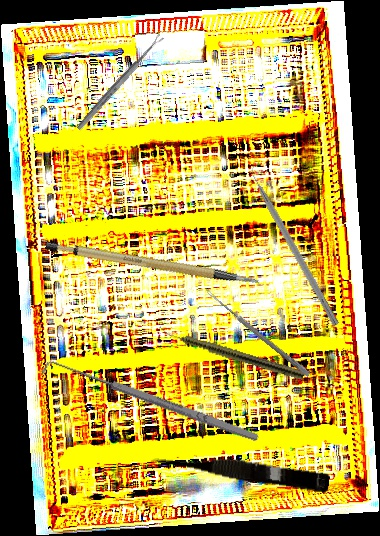Chopper: (243, 156, 348, 327)
Handpiece: (156, 325, 306, 381)
Hook Surgical: (39, 353, 262, 452)
Micro Scissor: (150, 445, 331, 494)
Scalpel Handle: (43, 212, 262, 319)
Surgical Spoon: (204, 289, 312, 377), (75, 33, 165, 132)
